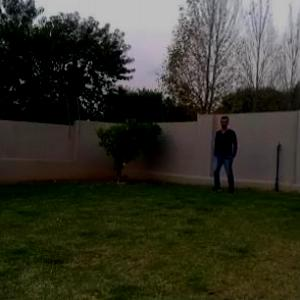follow: (213, 112, 234, 195)
